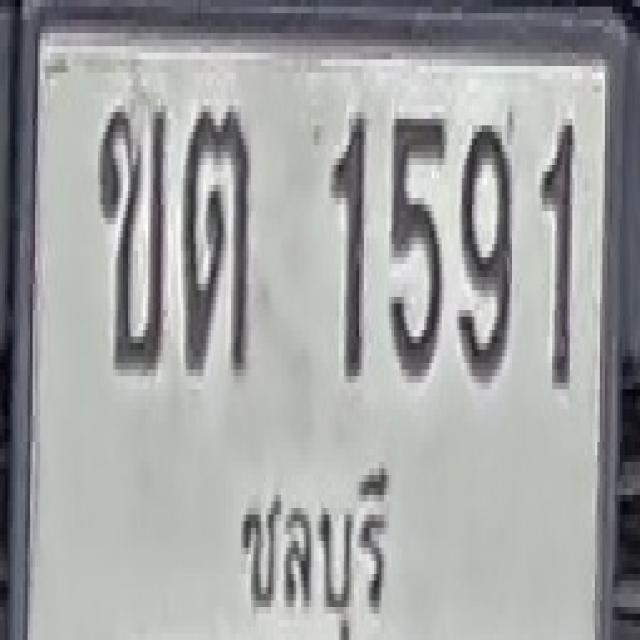-: (98, 99, 166, 369), (183, 106, 249, 370)
1: (330, 112, 365, 376), (541, 119, 573, 382)
5: (389, 112, 447, 376)
9: (458, 119, 511, 376)
CBI: (233, 429, 399, 640)
